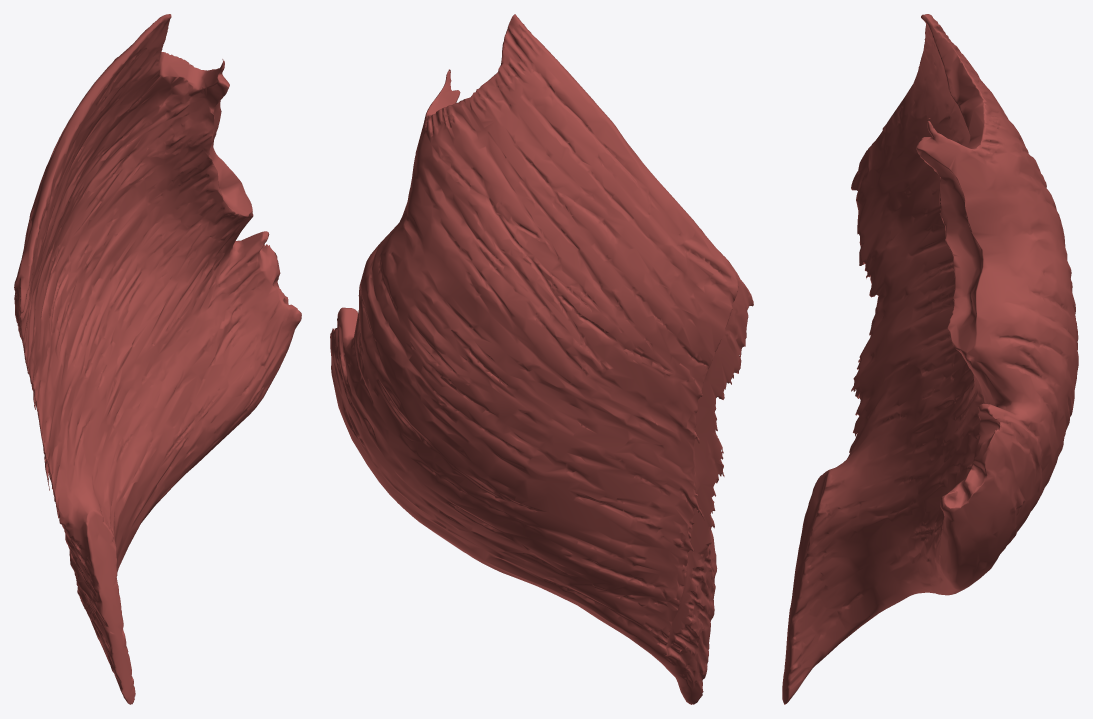
File: FMA22328.glb
3 renders of one model, left to right at view 1: azimuth 30°, elevation 25°; view 2: azimuth 150°, elevation 25°; view 3: azimuth 270°, elevation 25°, orthographic. The views are drawn at different scales.
Parts seen in each view (by area): view 1: FMA22328; view 2: FMA22328; view 3: FMA22328.
Boxes of the visible parts, bbox=[...] form: FMA22328: bbox=[14, 14, 301, 704]; FMA22328: bbox=[330, 14, 753, 704]; FMA22328: bbox=[782, 14, 1078, 704].
Bounding box in the file's own units: 0.1407 × 0.2611 × 0.094.
